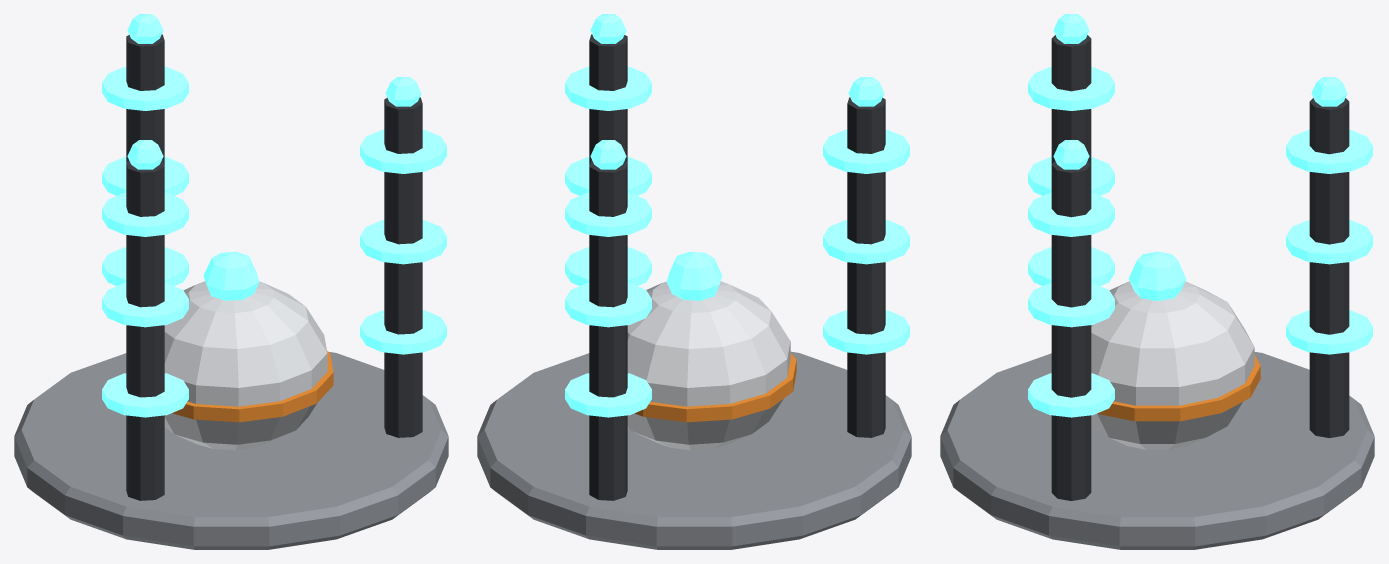
Rendered from fuel_charger.glb.
3 renders of one model, left to right at view 1: azimuth 30°, elevation 25°; view 2: azimuth 150°, elevation 25°; view 3: azimuth 270°, elevation 25°, orthographic.
Parts seen in each view (by area): view 1: fuel_charger; view 2: fuel_charger; view 3: fuel_charger.
Part boxes in pixels (x1,y1,x2,y2): fuel_charger: [14, 14, 448, 549]; fuel_charger: [477, 14, 911, 549]; fuel_charger: [940, 14, 1374, 549].
Bounding box in the file's own units: 2.36 × 2.35 × 2.4.
